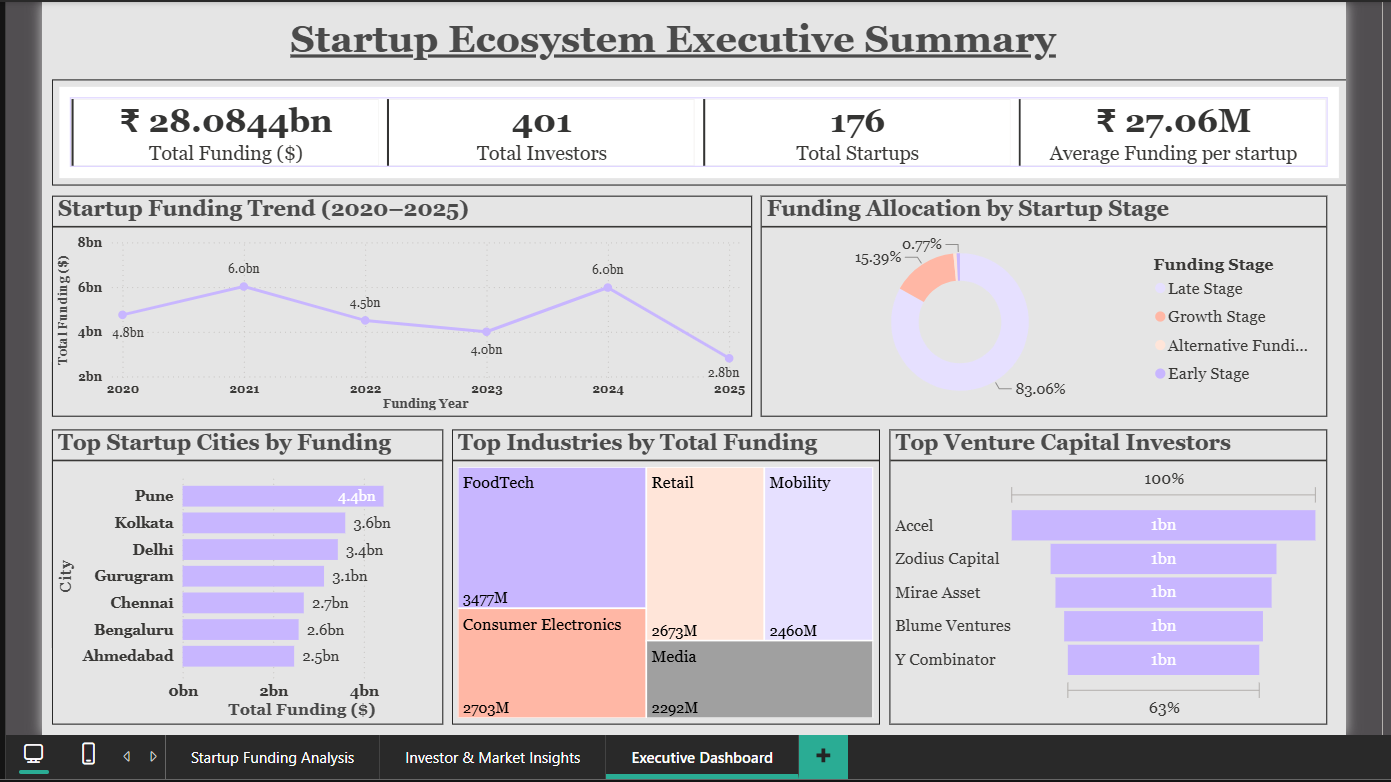

Layout of this report page (visuals, bound fields, positions):
{"tool":"powerbi","page":{"name":"Executive Dashboard","canvas":[1280,720],"ordinal":2},"visuals":[{"type":"cardVisual","fields":{"Data":["indian_startup_funding(2020-2025).Total Funding","indian_startup_funding(2020-2025).Total Investors","indian_startup_funding(2020-2025).Total Startups","indian_startup_funding(2020-2025).Average Funding"]},"box":[9.8,76.1,1271.2,104.3],"z":0},{"type":"lineChart","title":"Startup Funding Trend (2020–2025)","fields":{"Category":["indian_startup_funding(2020-2025).Funding Year"],"Y":["indian_startup_funding(2020-2025).Total Funding"]},"box":[9.8,190.2,687.1,217.2],"z":1000},{"type":"barChart","title":"Top Startup Cities by Funding","fields":{"Category":["indian_startup_funding(2020-2025).City"],"Y":["indian_startup_funding(2020-2025).Total Funding"]},"box":[9.8,419.6,384.1,289.6],"z":2000},{"type":"donutChart","title":"Funding Allocation by Startup Stage","fields":{"Category":["indian_startup_funding(2020-2025).Funding Stage"],"Y":["indian_startup_funding(2020-2025).Total Funding"]},"box":[705.5,190.2,555.8,217.2],"z":3000},{"type":"funnel","title":"Top Venture Capital Investors","fields":{"Category":["indian_startup_funding(2020-2025).Investors"],"Y":["indian_startup_funding(2020-2025).Total Funding"]},"box":[831.9,419.6,429.5,289.6],"z":4000},{"type":"textbox","box":[100,9.8,1040.2,65.9],"z":5000},{"type":"treemap","title":"Top Industries by Total Funding","fields":{"Group":["indian_startup_funding(2020-2025).Industry"],"Values":["indian_startup_funding(2020-2025).Total Funding"]},"box":[402.5,419.6,419.6,289.6],"z":6000}]}

Visuals, with their boxes on the page's 1280x720 design canvas (x1, y1, x2, y2). These are canvas units, not pixel positions in the 1391x782 screenshot, which may show the page scaled, cropped or inside an application window:
cardVisual - indian_startup_funding(2020-2025).Total Funding x indian_startup_funding(2020-2025).Total Investors: [10, 76, 1281, 180]
"Startup Funding Trend (2020–2025)" lineChart: [10, 190, 697, 407]
"Top Startup Cities by Funding" barChart: [10, 420, 394, 709]
"Funding Allocation by Startup Stage" donutChart: [706, 190, 1261, 407]
"Top Venture Capital Investors" funnel: [832, 420, 1261, 709]
textbox: [100, 10, 1140, 76]
"Top Industries by Total Funding" treemap: [402, 420, 822, 709]
